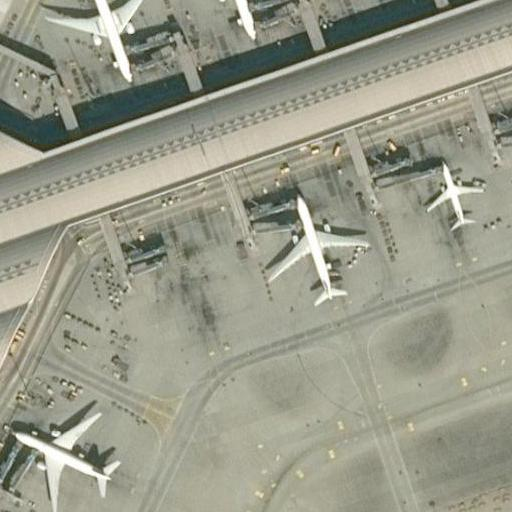Aircraft: (265, 187, 372, 305), (4, 406, 123, 506), (39, 0, 156, 84), (166, 0, 283, 41), (423, 154, 484, 231)
